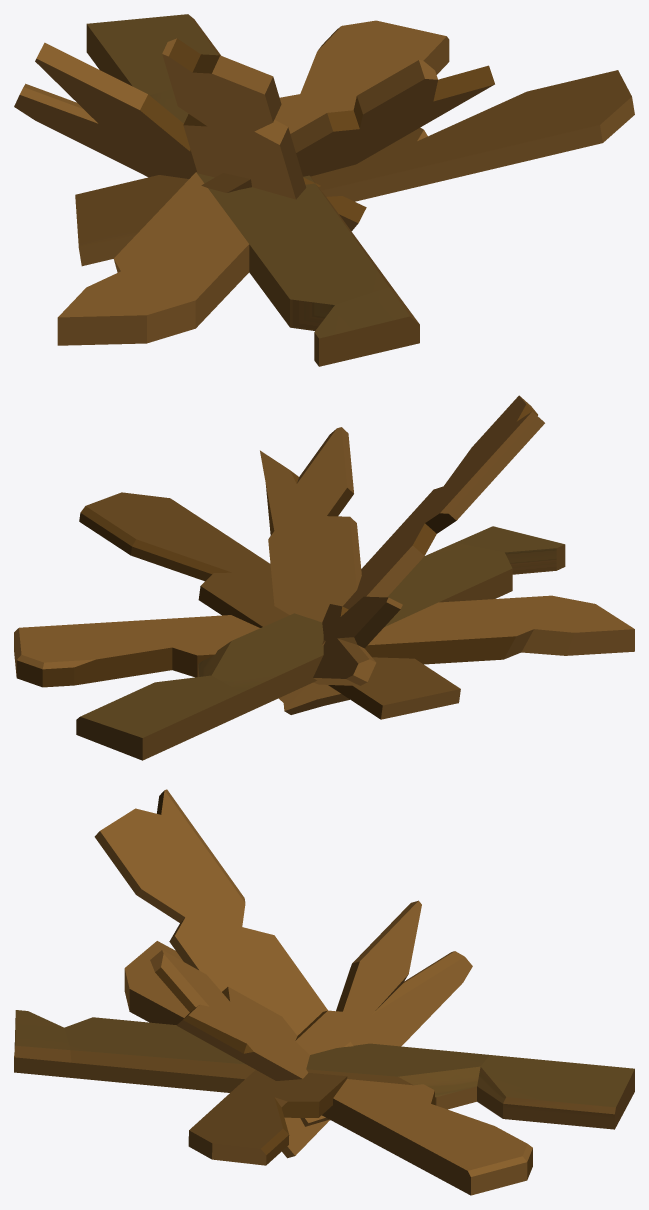
Rendered from Wreckage.fbx.
3 views of the same model, one above another, from view 1: azimuth 30°, elevation 25°; view 2: azimuth 150°, elevation 25°; view 3: azimuth 270°, elevation 25° (orthographic). The views are drawn at different scales.
Parts seen in each view (by area): view 1: Wreckage; view 2: Wreckage; view 3: Wreckage.
Boxes of the visible parts, x1=… form: Wreckage: x1=14, y1=14, x2=634, y2=366; Wreckage: x1=14, y1=395, x2=634, y2=760; Wreckage: x1=14, y1=789, x2=634, y2=1195.
Size of the model in its own units: 424 by 220 by 446.
